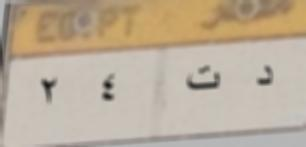2: (40, 71, 59, 109)
4: (98, 71, 119, 108)
daal: (252, 60, 277, 94)
taa: (181, 62, 222, 96)
